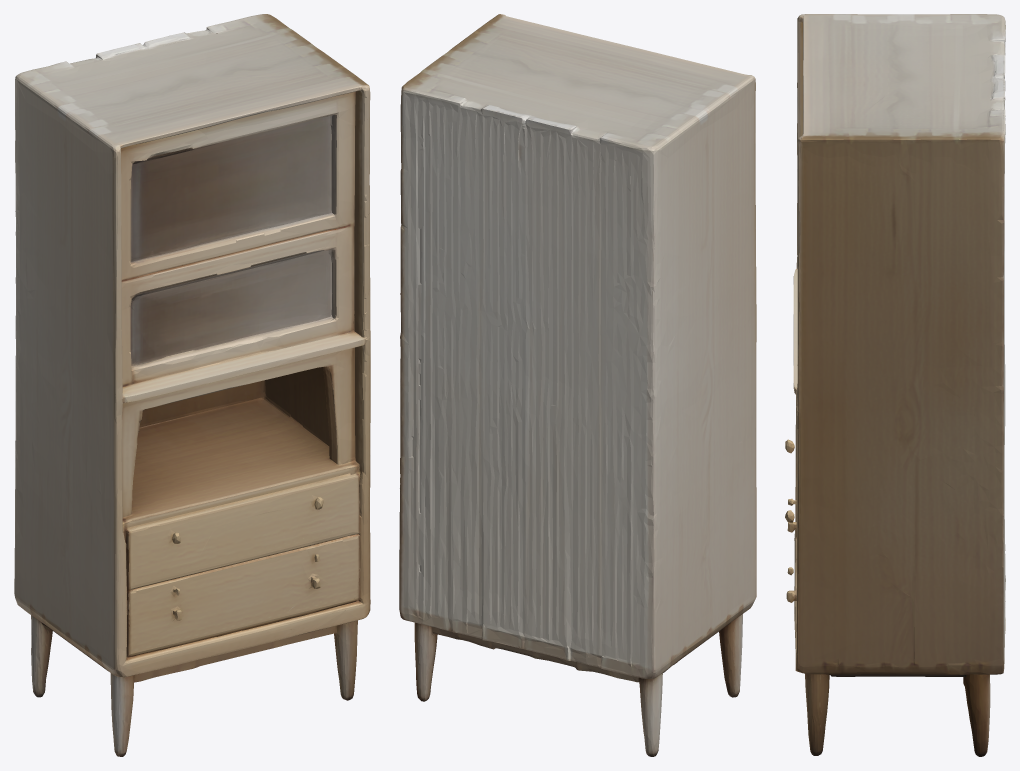
The picture shows the model from 3 angles, left to right: view 1: azimuth 30°, elevation 25°; view 2: azimuth 150°, elevation 25°; view 3: azimuth 270°, elevation 25°; orthographic projection.
Parts seen in each view (by area): view 1: world; view 2: world; view 3: world.
Boxes of the visible parts, left/top/right/bottom form: world: left=14, top=14, right=370, bottom=756; world: left=399, top=14, right=756, bottom=756; world: left=785, top=14, right=1005, bottom=756.
Bounding box in the file's own units: 0.4348 × 1 × 0.3206.
1 material, 1 textured.
